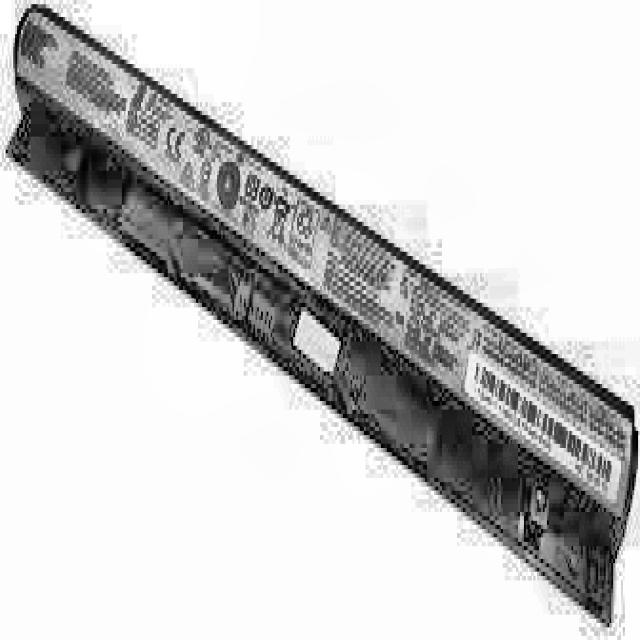Battery: (8, 4, 638, 623)
